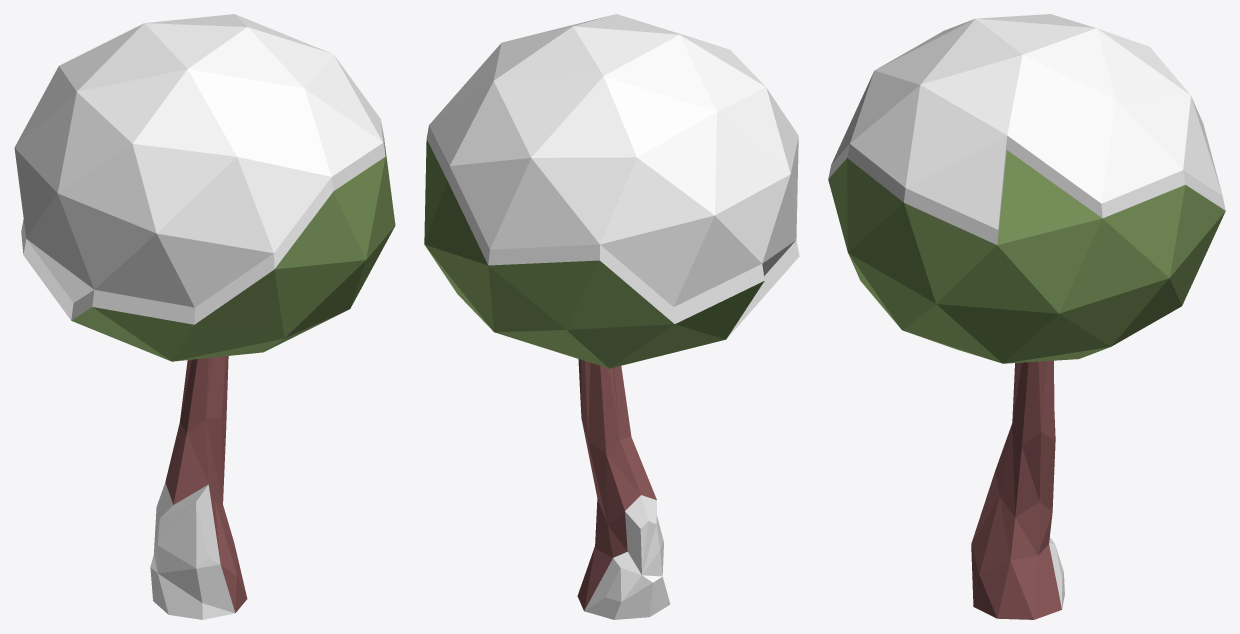
File: Poplar Tree_7 Snow.fbx
The picture shows the model from 3 angles, left to right: view 1: azimuth 30°, elevation 25°; view 2: azimuth 150°, elevation 25°; view 3: azimuth 270°, elevation 25°; orthographic projection.
Parts seen in each view (by area): view 1: Poplar Tree_7 Snow; view 2: Poplar Tree_7 Snow; view 3: Poplar Tree_7 Snow.
Part boxes in pixels (x1,y1,x2,y2): Poplar Tree_7 Snow: (14, 14, 395, 619); Poplar Tree_7 Snow: (424, 14, 799, 619); Poplar Tree_7 Snow: (828, 14, 1225, 619).
Size of the model in its own units: 3.09 by 4.99 by 3.16.
